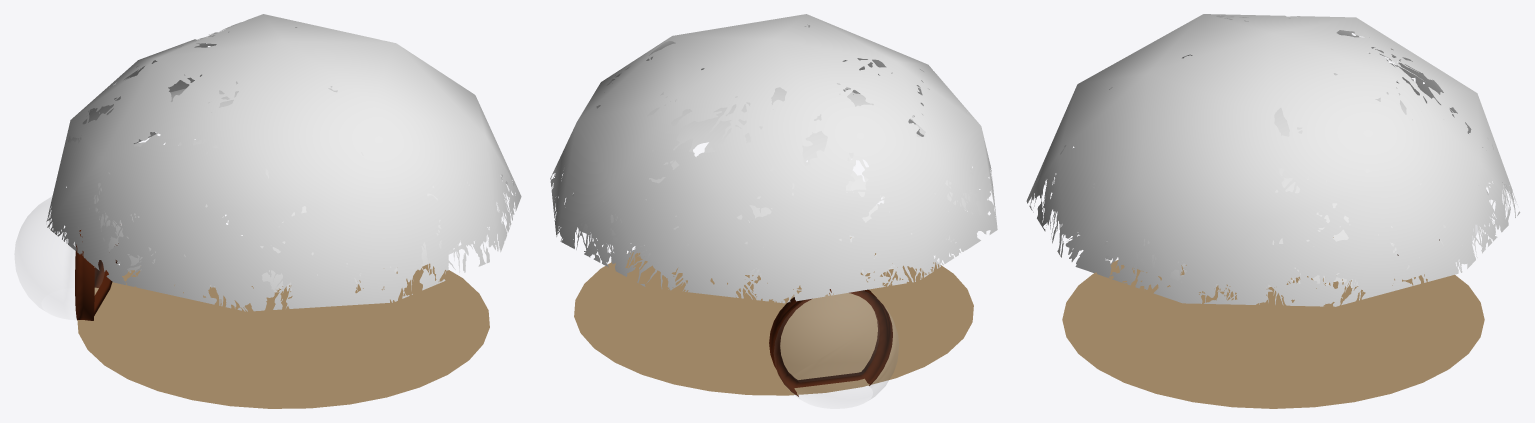
File: WallsLvl0.fbx
3 renders of one model, left to right at view 1: azimuth 30°, elevation 25°; view 2: azimuth 150°, elevation 25°; view 3: azimuth 270°, elevation 25°, orthographic. The views are drawn at different scales.
Visible parts, largest first — view 1: Ceiling.004, Walls.004, GiantWindow.Lvl0, Ceiling.003; view 2: Ceiling.004, Walls.004, GiantWindow.Lvl0, Ceiling.003; view 3: Ceiling.004, Walls.004, Ceiling.003.
Part boxes in pixels (box(x1,y1,x2,y2)): Ceiling.004: box(46, 14, 521, 311); Walls.004: box(77, 263, 489, 408); GiantWindow.Lvl0: box(15, 197, 121, 320); Ceiling.003: box(77, 81, 496, 292); Ceiling.004: box(550, 14, 997, 303); Walls.004: box(574, 237, 973, 395); GiantWindow.Lvl0: box(769, 289, 898, 398); Ceiling.003: box(572, 83, 981, 280); Ceiling.004: box(1026, 14, 1520, 306); Walls.004: box(1062, 237, 1484, 408); Ceiling.003: box(1093, 73, 1488, 291).
Size of what is drawn, in the model's own units: 3449 by 2310 by 3608.
